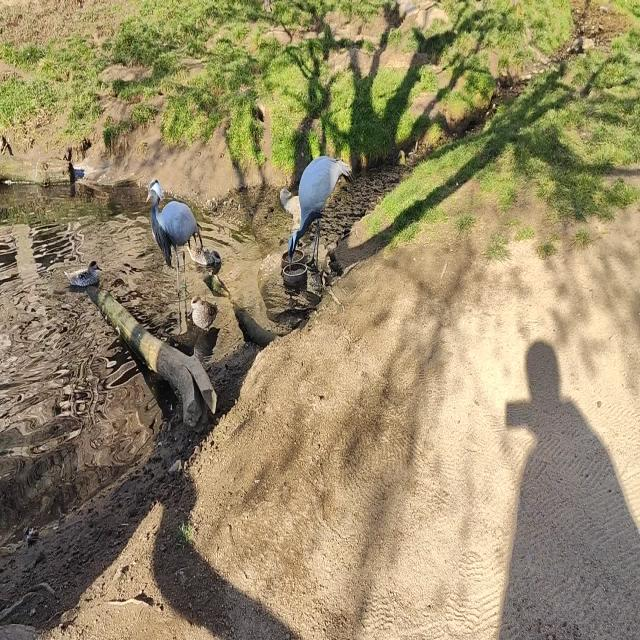bird: (288, 156, 354, 272), (145, 178, 205, 296), (187, 294, 220, 332), (64, 260, 102, 286), (186, 243, 221, 266)
